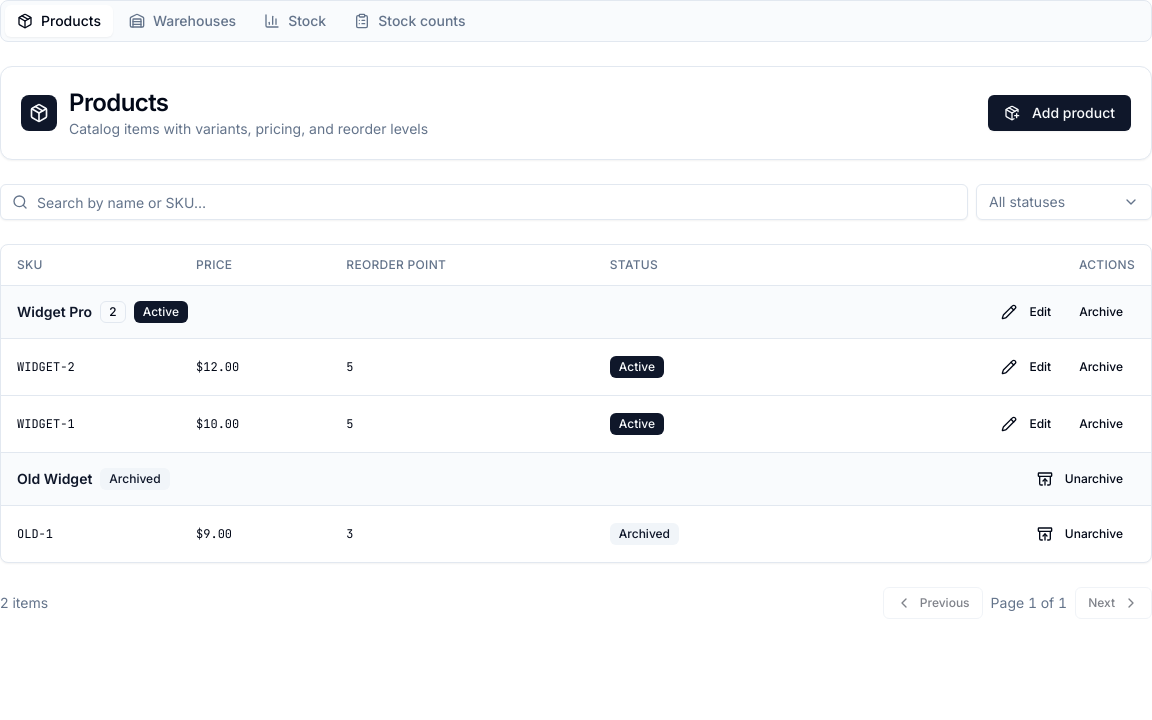
Test case: ProductsView — grouped products table › unarchives ONE archived variant from its row after confirmation (INV-11 inverse)
Click the button "Unarchive" in the row of "OLD-1" at (1080, 534), box 1025,518 -> 1135,550
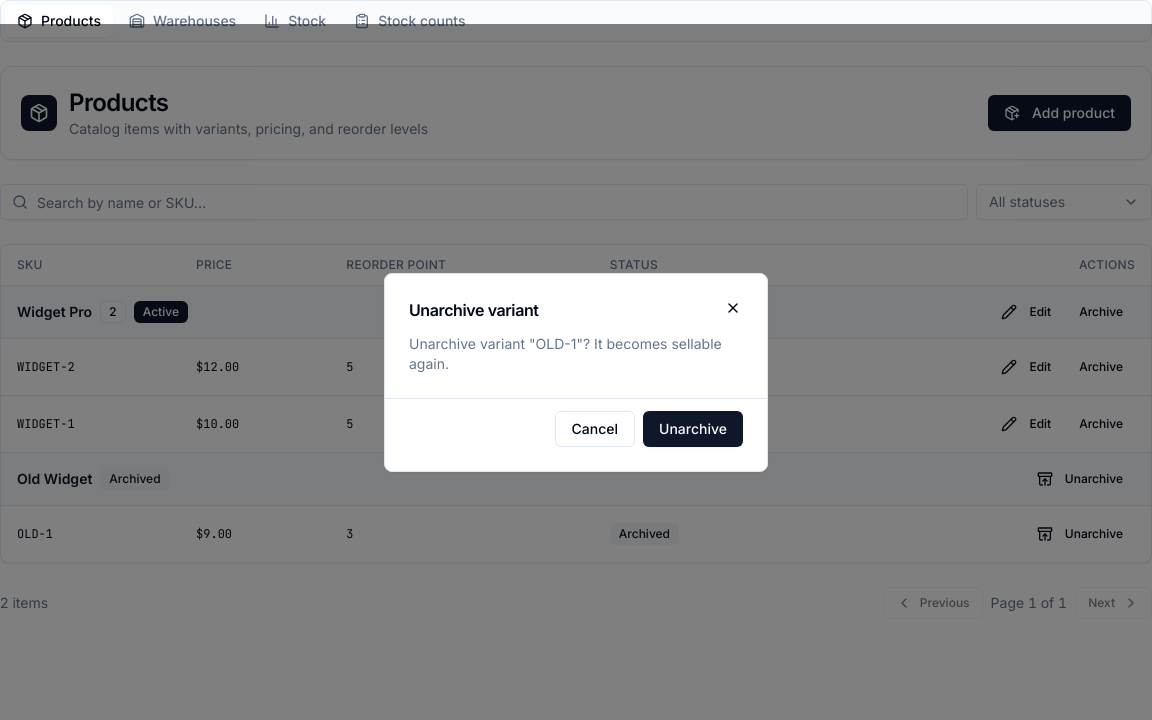
Result: the text "Unarchive variant \"OLD-1\"? It becomes sellable again." is shown at 409,334 -> 743,374
Click the button "Unarchive" at (693, 428), box 643,410 -> 743,446
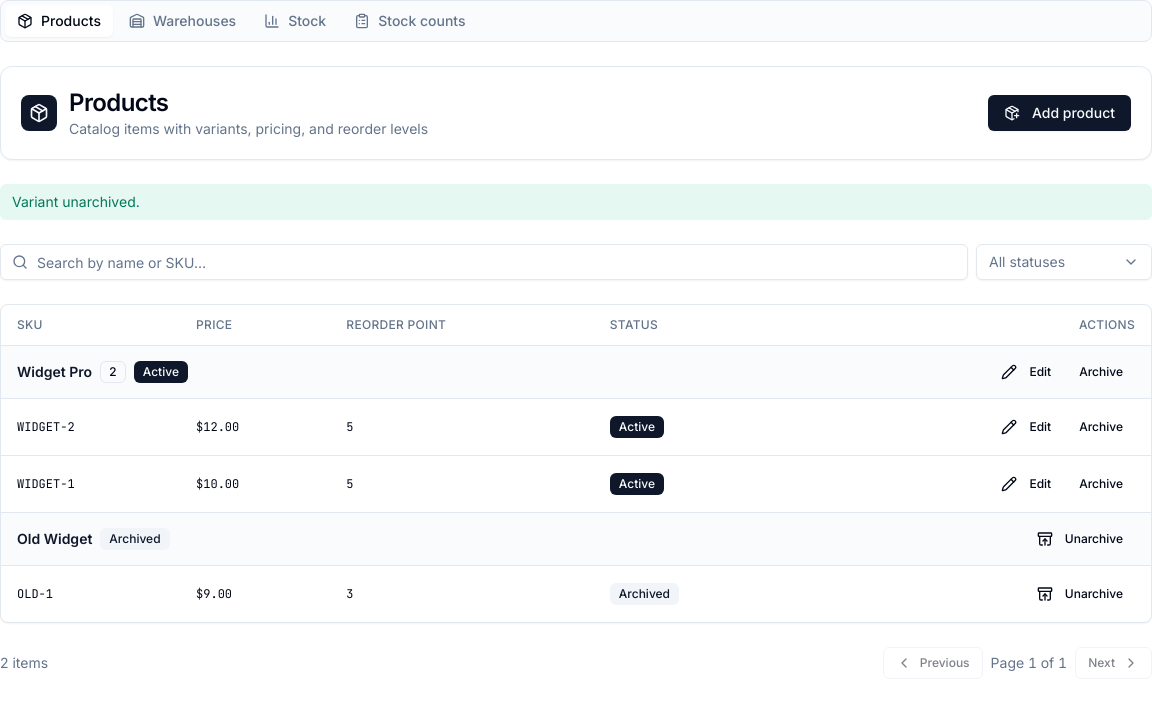
Result: the text "Variant unarchived." is shown at 0,184 -> 1151,220
